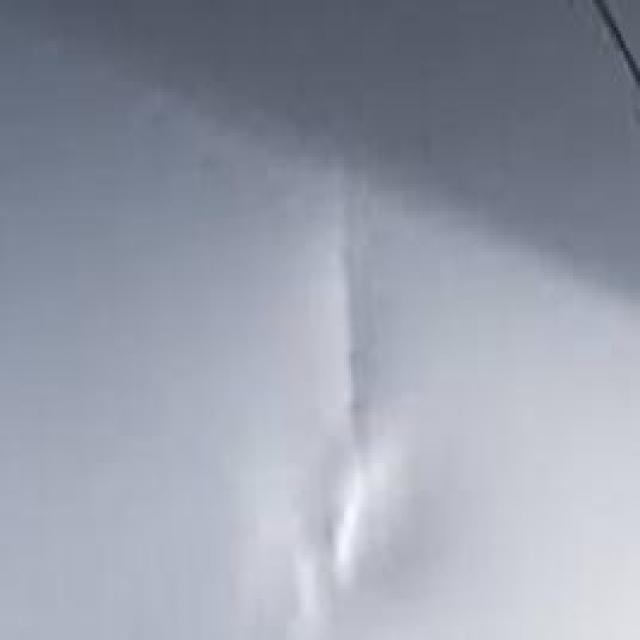dent: (280, 146, 402, 640)
